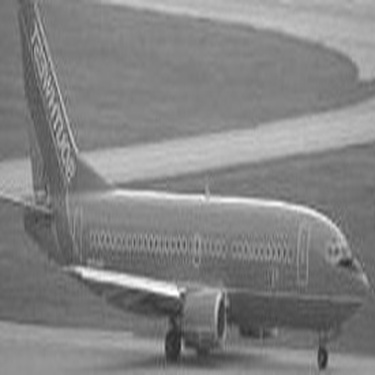airplane: (4, 3, 369, 372)
